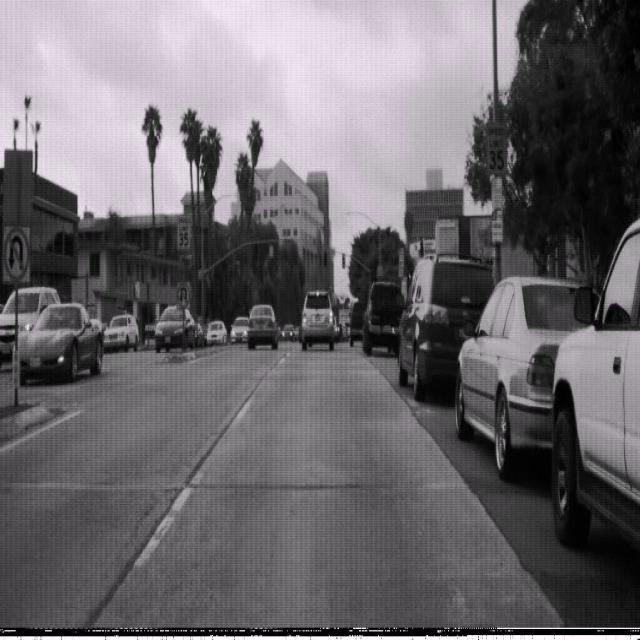speedLimit35: (484, 119, 508, 174), (176, 212, 192, 250)
